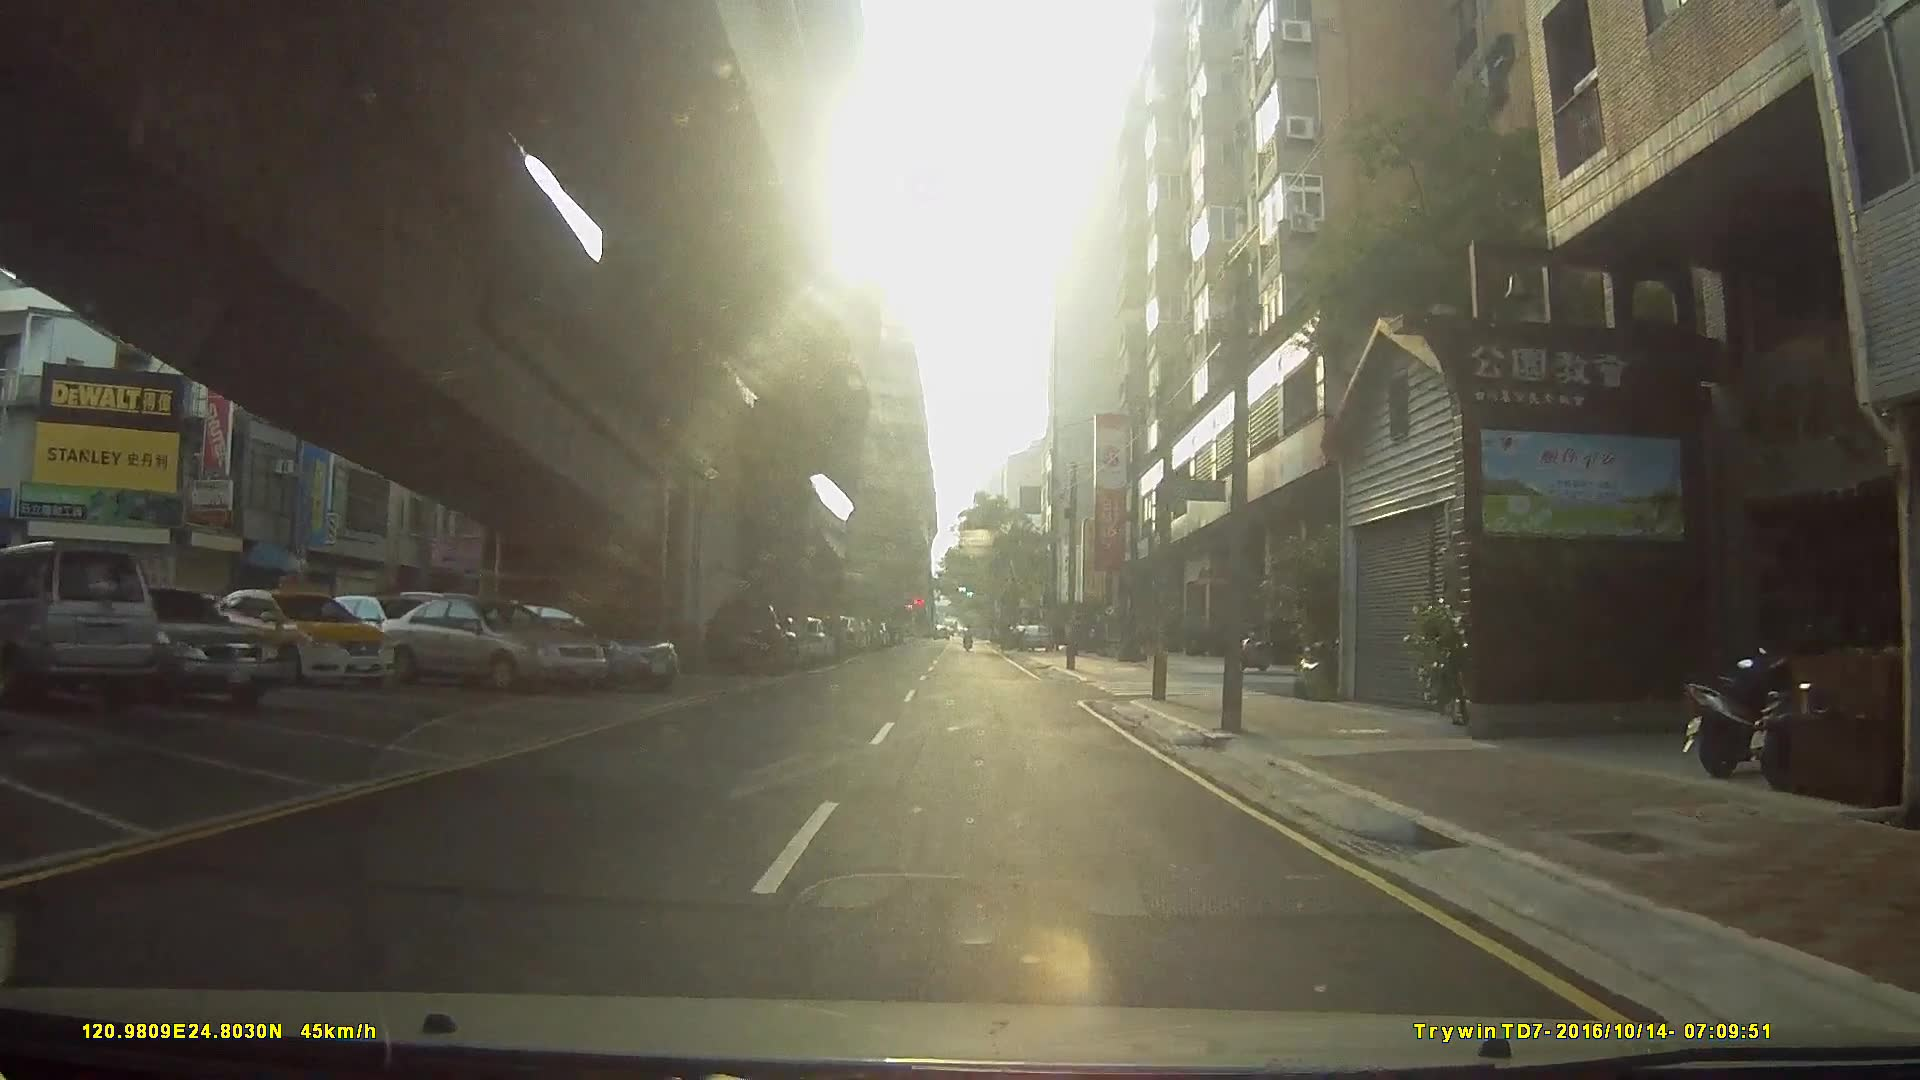vehicle: (0, 539, 161, 712), (65, 585, 277, 709), (365, 596, 603, 695), (450, 597, 678, 695), (208, 589, 392, 688), (700, 597, 793, 676)
